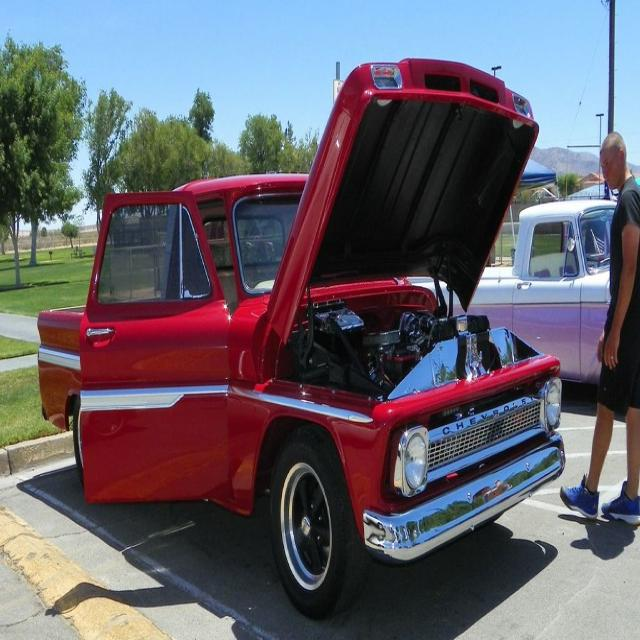car: (32, 53, 567, 611)
